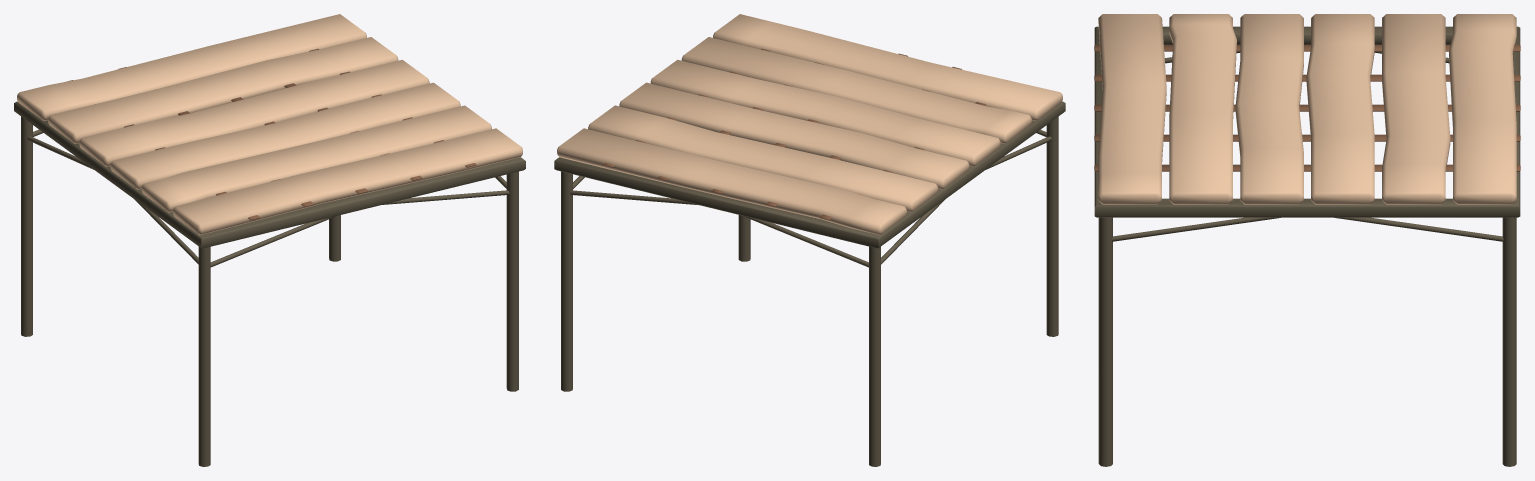
The model's file is Platformfbx.fbx.
The picture shows the model from 3 angles, left to right: view 1: azimuth 30°, elevation 25°; view 2: azimuth 150°, elevation 25°; view 3: azimuth 270°, elevation 25°; orthographic projection. The views are drawn at different scales.
Parts seen in each view (by area): view 1: Cube.001, Cube; view 2: Cube.001, Cube; view 3: Cube.001, Cube.
Boxes of the visible parts, <box> form: Cube.001: <box>17,14,522,235</box>; Cube: <box>14,101,525,466</box>; Cube.001: <box>557,14,1062,235</box>; Cube: <box>554,101,1065,466</box>; Cube.001: <box>1094,14,1520,204</box>; Cube: <box>1094,26,1520,466</box>.
Bounding box in the file's own units: 600 × 429 × 601.
